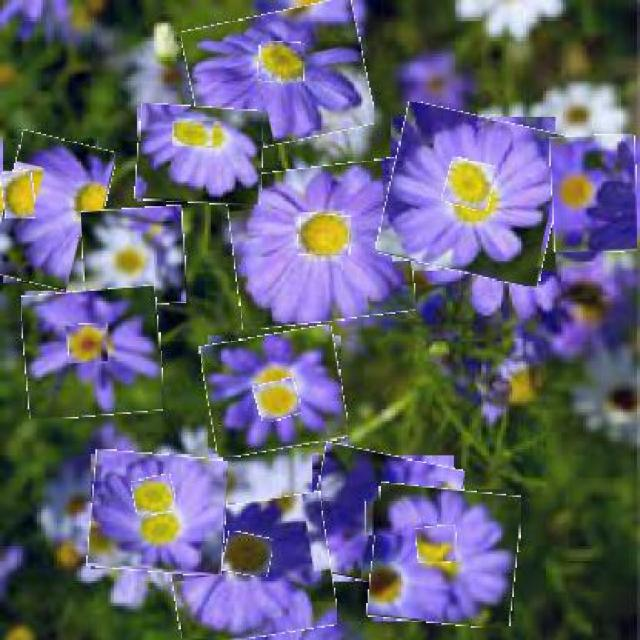Flower: (383, 108, 565, 281), (229, 162, 414, 327), (185, 4, 370, 150), (165, 497, 336, 638), (307, 448, 461, 590), (370, 485, 519, 627), (23, 288, 163, 419), (204, 330, 345, 455), (88, 452, 227, 575), (0, 134, 109, 289), (135, 106, 263, 205), (82, 206, 186, 306), (551, 135, 638, 254), (444, 159, 495, 210), (298, 213, 352, 256), (223, 532, 272, 577), (255, 379, 301, 421), (258, 42, 305, 83), (133, 476, 176, 516), (69, 323, 109, 365), (2, 170, 36, 219), (417, 525, 458, 564), (365, 501, 406, 538), (173, 120, 213, 148)
